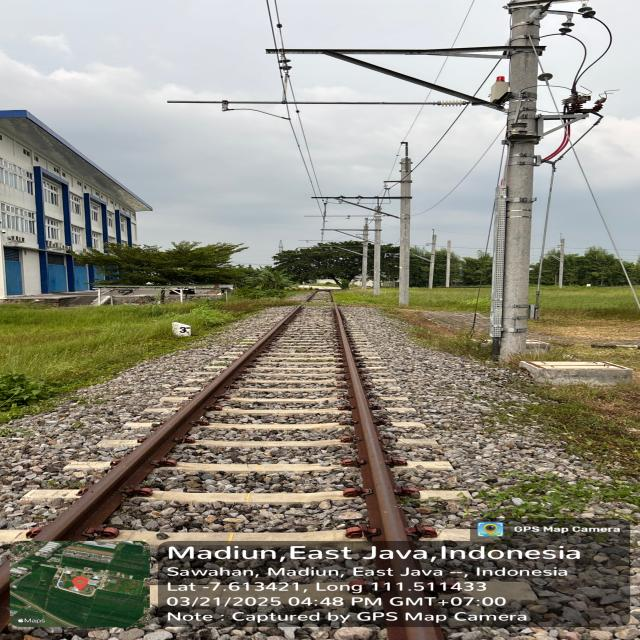rail-detection: (39, 303, 304, 540), (333, 304, 409, 550), (375, 559, 419, 595), (387, 616, 443, 640)
